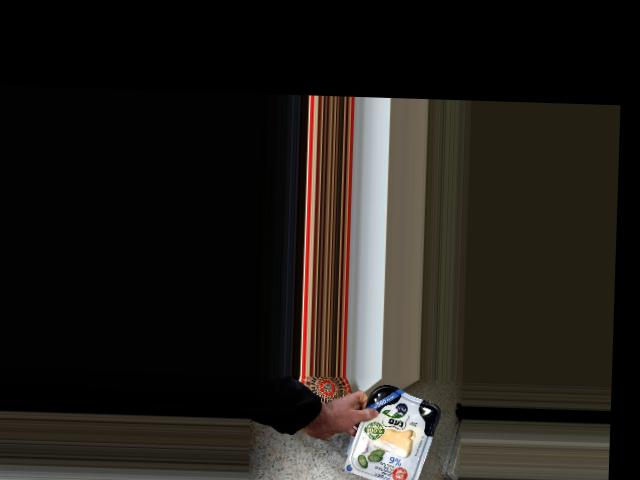cheese: (358, 393, 428, 480)
